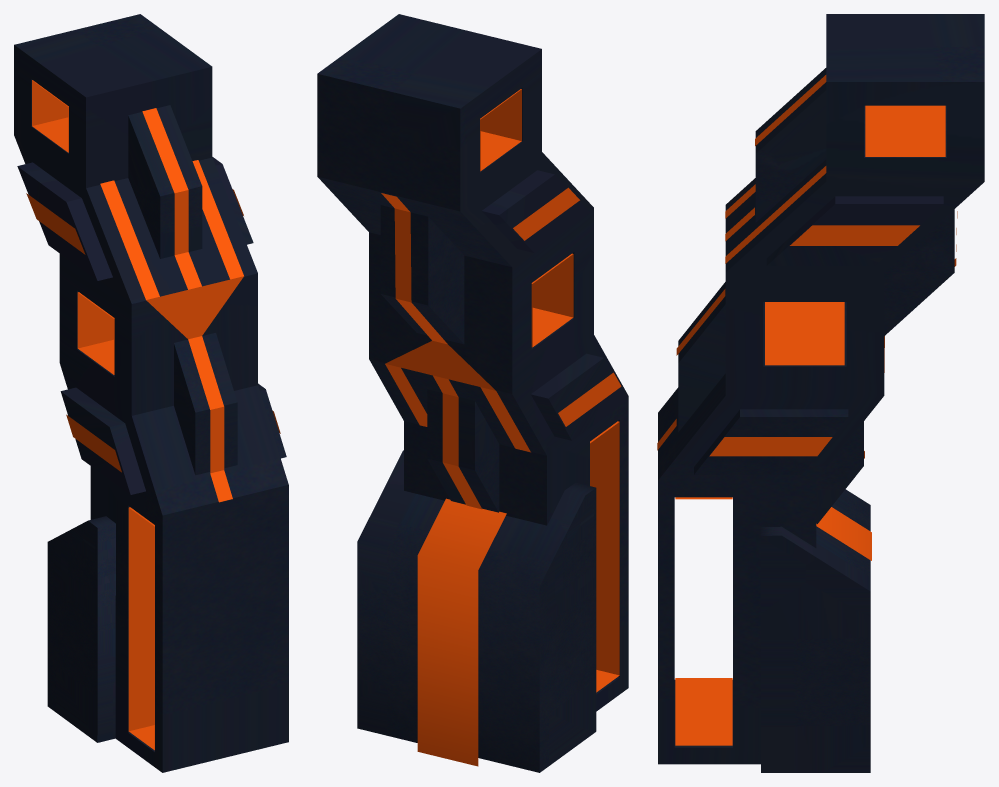
File: Beige Building.fbx
3 views of the same model, side by side, from view 1: azimuth 30°, elevation 25°; view 2: azimuth 150°, elevation 25°; view 3: azimuth 270°, elevation 25° (orthographic). The views are drawn at different scales.
Parts seen in each view (by area): view 1: Beige Building, Neon6; view 2: Beige Building, Neon6; view 3: Beige Building, Neon6.
Part boxes in pixels (x1,y1,x2,y2): Beige Building: (14, 14, 288, 772); Neon6: (26, 80, 280, 750); Beige Building: (317, 14, 628, 772); Neon6: (381, 89, 621, 766); Beige Building: (658, 14, 984, 772); Neon6: (657, 75, 957, 745).
Size of the model in its own units: 38.35 by 143 by 61.37.
